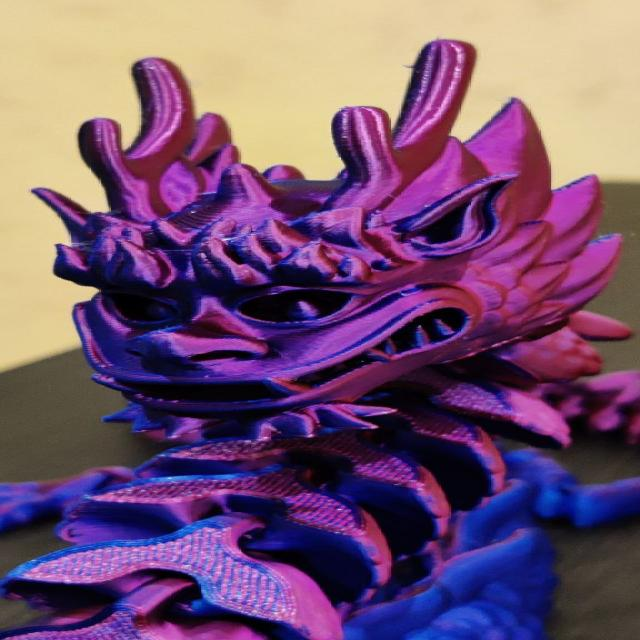Without deffect: (0, 42, 639, 640)
